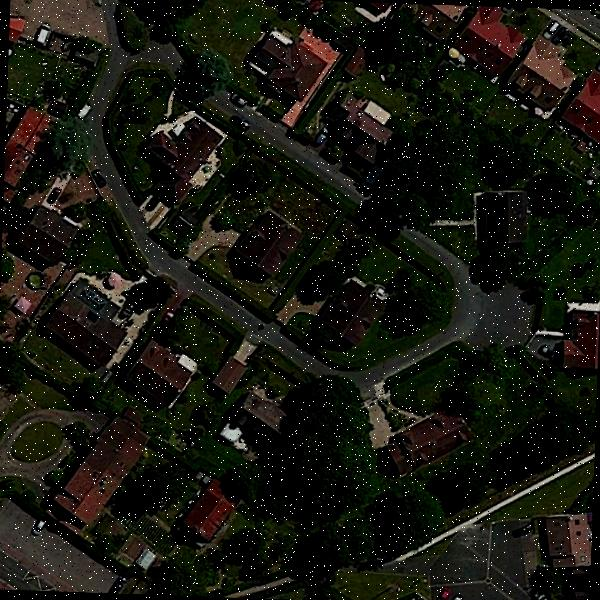Buildings: (60, 418, 158, 520), (51, 286, 132, 364), (152, 117, 214, 198), (392, 408, 470, 470), (182, 479, 248, 546), (319, 284, 384, 350), (132, 346, 194, 410), (3, 98, 39, 206), (468, 183, 535, 239), (462, 6, 518, 69), (521, 42, 568, 109), (335, 100, 389, 158), (548, 505, 593, 566), (20, 205, 80, 250), (262, 44, 318, 92), (246, 215, 290, 276), (560, 306, 600, 371), (572, 62, 600, 137), (404, 3, 458, 30)
